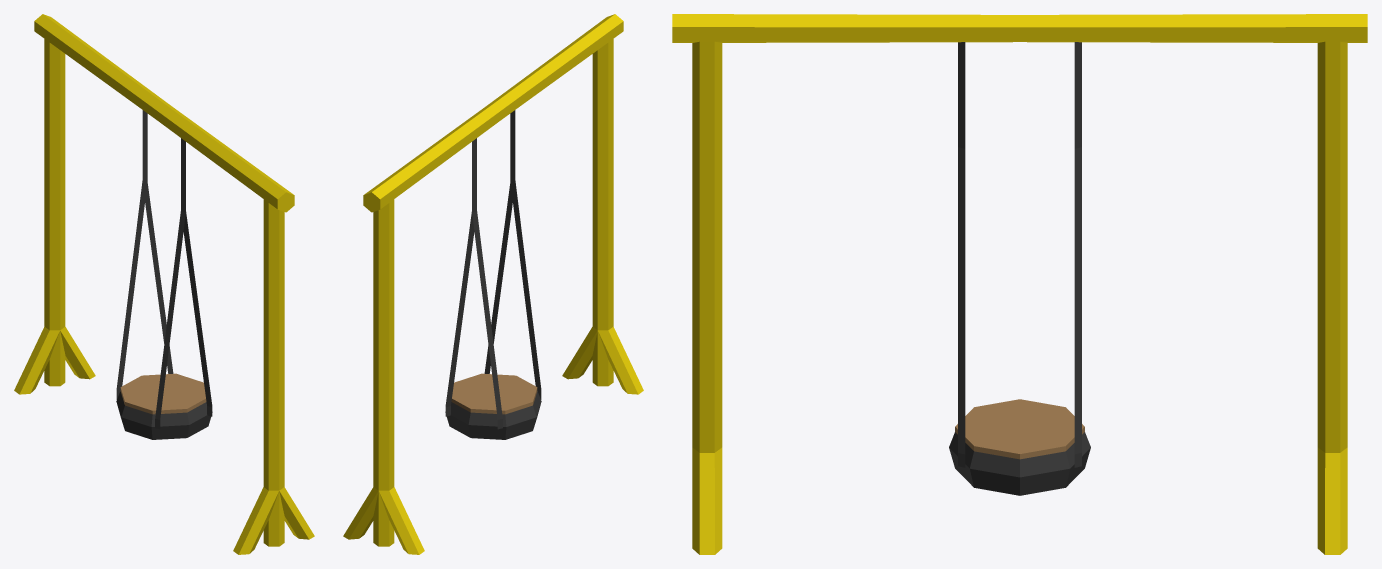
Rendered from swing_01.fbx.
The picture shows the model from 3 angles, left to right: view 1: azimuth 30°, elevation 25°; view 2: azimuth 150°, elevation 25°; view 3: azimuth 270°, elevation 25°; orthographic projection. The views are drawn at different scales.
Parts seen in each view (by area): view 1: swing_01; view 2: swing_01; view 3: swing_01.
Boxes of the visible parts, x1,y1,x2,y2 form: swing_01: (14,14,314,554); swing_01: (343,14,643,554); swing_01: (672,14,1367,554).
Bounding box in the file's own units: 56.92 × 227 × 278.
